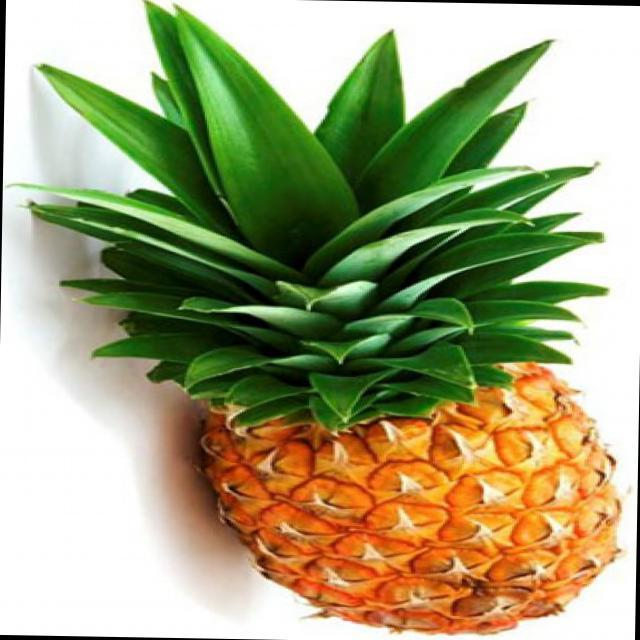PINEAPLE: (78, 19, 630, 637)
